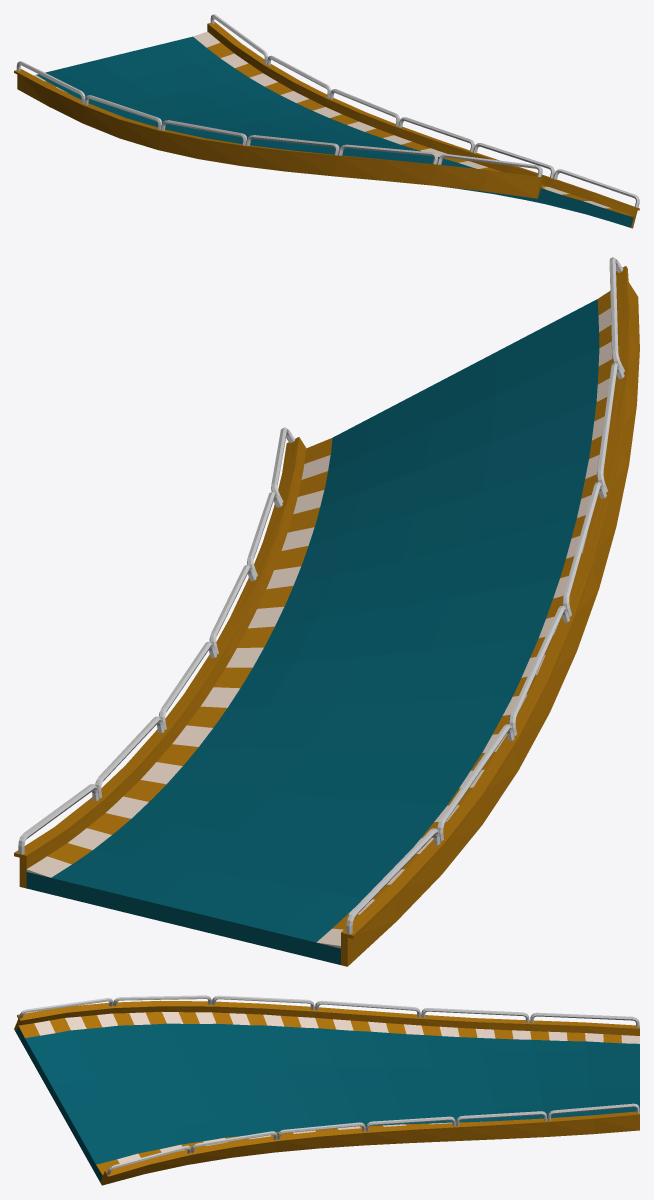
File: curveLeft-Banked-30.FBX
3 views of the same model, one above another, from view 1: azimuth 30°, elevation 25°; view 2: azimuth 150°, elevation 25°; view 3: azimuth 270°, elevation 25° (orthographic). The views are drawn at different scales.
Visible parts, largest first — view 1: curveLeft-30-banked-30, wall_r, wall_l, curbs_l; view 2: curveLeft-30-banked-30, wall_r, wall_l, curbs_l, curbs_r; view 3: curveLeft-30-banked-30, wall_l, wall_r, curbs_r, curbs_l.
Boxes of the visible parts, box(x1,y1,x2,y2) form: curveLeft-30-banked-30: box(36, 36, 633, 227); wall_r: box(14, 61, 542, 198); wall_l: box(207, 14, 639, 228); curbs_l: box(193, 31, 633, 217); curveLeft-30-banked-30: box(26, 299, 599, 964); wall_r: box(341, 257, 639, 966); wall_l: box(14, 427, 306, 888); curbs_l: box(26, 437, 332, 877); curbs_r: box(316, 291, 613, 948); curveLeft-30-banked-30: box(16, 1023, 639, 1181); wall_l: box(100, 1103, 639, 1185); wall_r: box(14, 995, 639, 1035); curbs_r: box(18, 1011, 639, 1043); curbs_l: box(96, 1121, 480, 1175).
Size of what is drawn, in the model's own units: 349 by 133 by 626.
